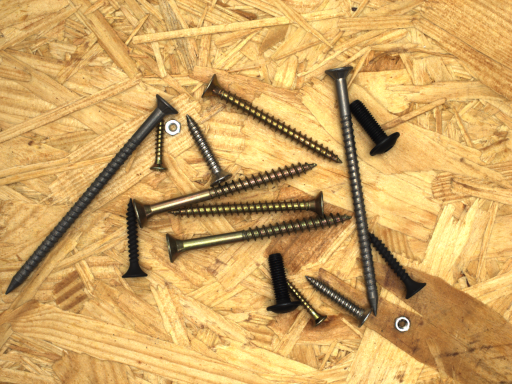screw_long: (0, 83, 191, 298), (315, 53, 398, 328)
